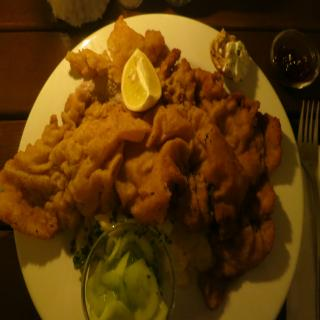Lemon: (120, 49, 162, 111)
